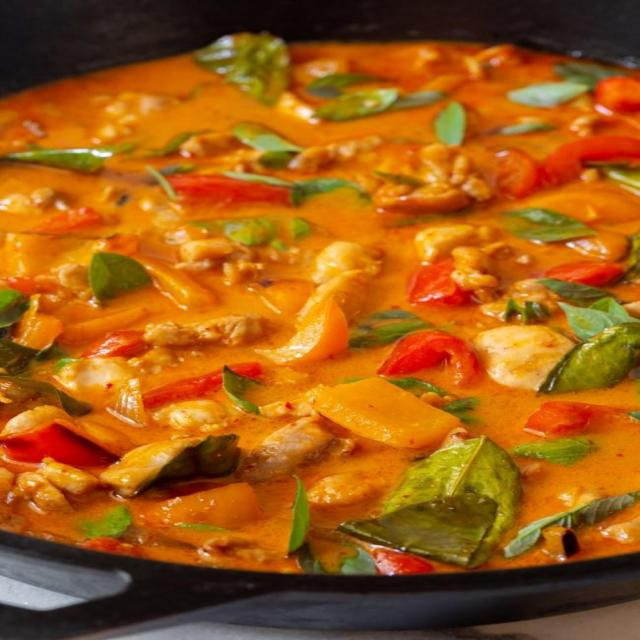chicken: (10, 42, 640, 553)
